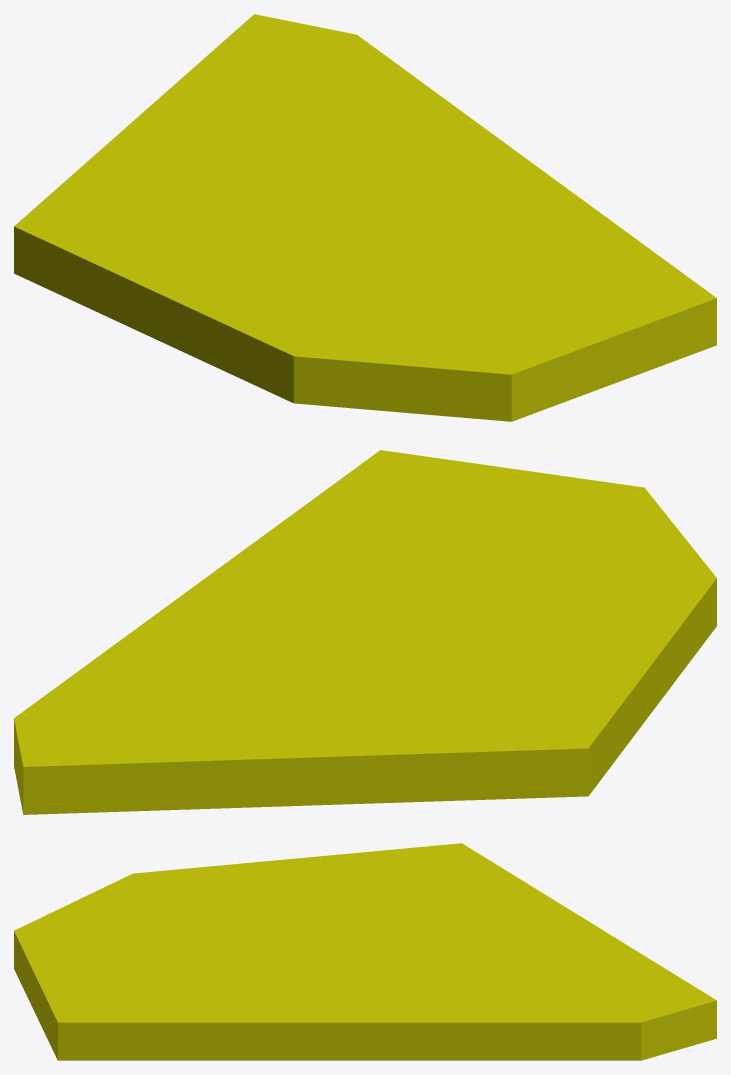
The model's file is x_proval_00_188_1_rmstrd.fbx.
3 views of the same model, one above another, from view 1: azimuth 30°, elevation 25°; view 2: azimuth 150°, elevation 25°; view 3: azimuth 270°, elevation 25° (orthographic). The views are drawn at different scales.
Visible parts, largest first — view 1: x_proval_00_188_1_rmstrd1; view 2: x_proval_00_188_1_rmstrd1; view 3: x_proval_00_188_1_rmstrd1.
Boxes of the visible parts, <box> form: x_proval_00_188_1_rmstrd1: <box>14,14,716,421</box>; x_proval_00_188_1_rmstrd1: <box>14,450,716,814</box>; x_proval_00_188_1_rmstrd1: <box>14,843,716,1060</box>.
Size of the model in its own units: 2.02 by 0.2 by 3.34.
